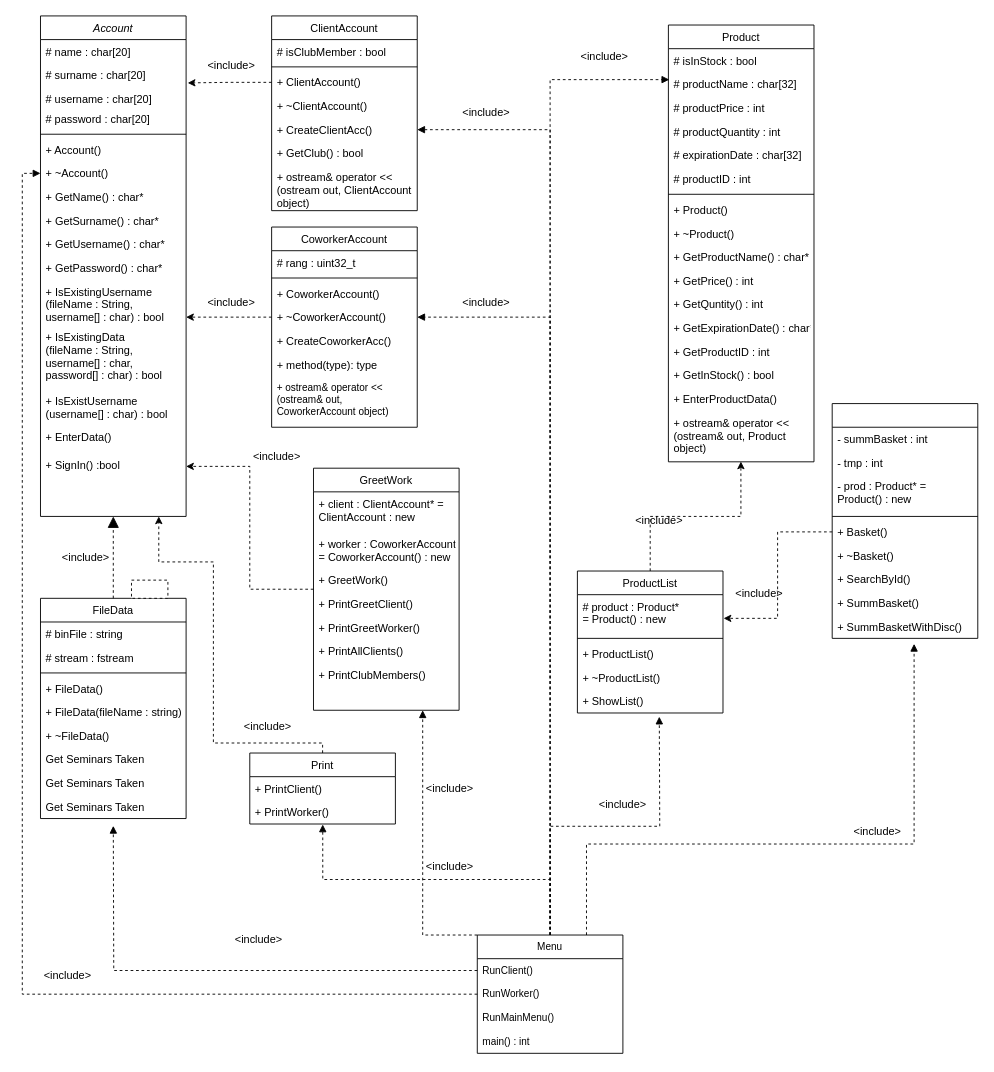
Some shapes in this 994 by 1072 pixel diagram are drawn without their labels. The box of each missing label's shape, as (x1, y1, x2, y2) in pixels:
Basked: (831, 403, 978, 638)
n, T: (131, 579, 168, 598)
